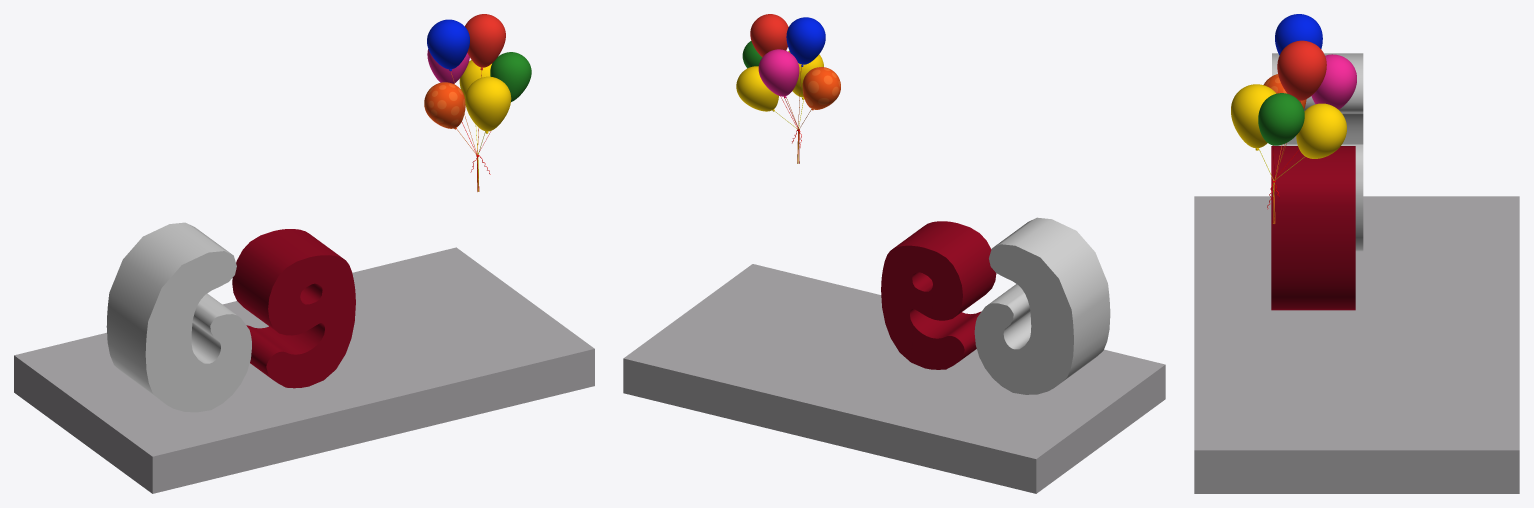
File: Gg_globos_anim.fbx
The picture shows the model from 3 angles, left to right: view 1: azimuth 30°, elevation 25°; view 2: azimuth 150°, elevation 25°; view 3: azimuth 270°, elevation 25°; orthographic projection. The views are drawn at different scales.
Parts seen in each view (by area): view 1: root.001, node_id30, node_id37, node_id70; view 2: root.001, node_id30, node_id37, node_id70; view 3: root.001, node_id37, node_id70, node_id30.
Part boxes in pixels (left/top/right/bottom): root.001: left=14, top=247, right=594, bottom=493; node_id30: left=106, top=222, right=251, bottom=412; node_id37: left=232, top=229, right=355, bottom=388; node_id70: left=424, top=14, right=531, bottom=191; root.001: left=623, top=264, right=1165, bottom=493; node_id30: left=974, top=217, right=1110, bottom=394; node_id37: left=881, top=221, right=996, bottom=369; node_id70: left=736, top=14, right=840, bottom=163; root.001: left=1194, top=196, right=1519, bottom=493; node_id37: left=1271, top=146, right=1355, bottom=310; node_id70: left=1231, top=14, right=1356, bottom=223; node_id30: left=1272, top=53, right=1363, bottom=251.
Size of the model in its own units: 709 by 546 by 384.
